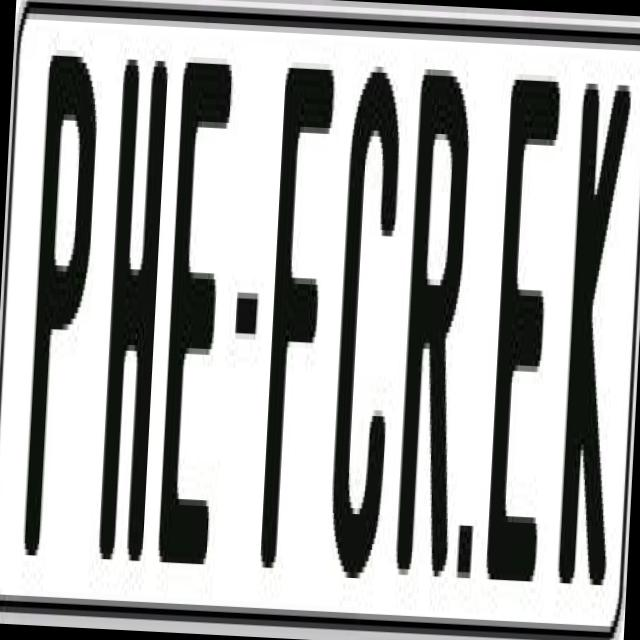C: (326, 59, 406, 580)
E: (480, 61, 562, 600), (158, 45, 240, 559)
F: (256, 68, 342, 606)
H: (98, 42, 170, 556)
K: (554, 71, 626, 580)
P: (21, 49, 98, 570)
R: (391, 51, 469, 594)
